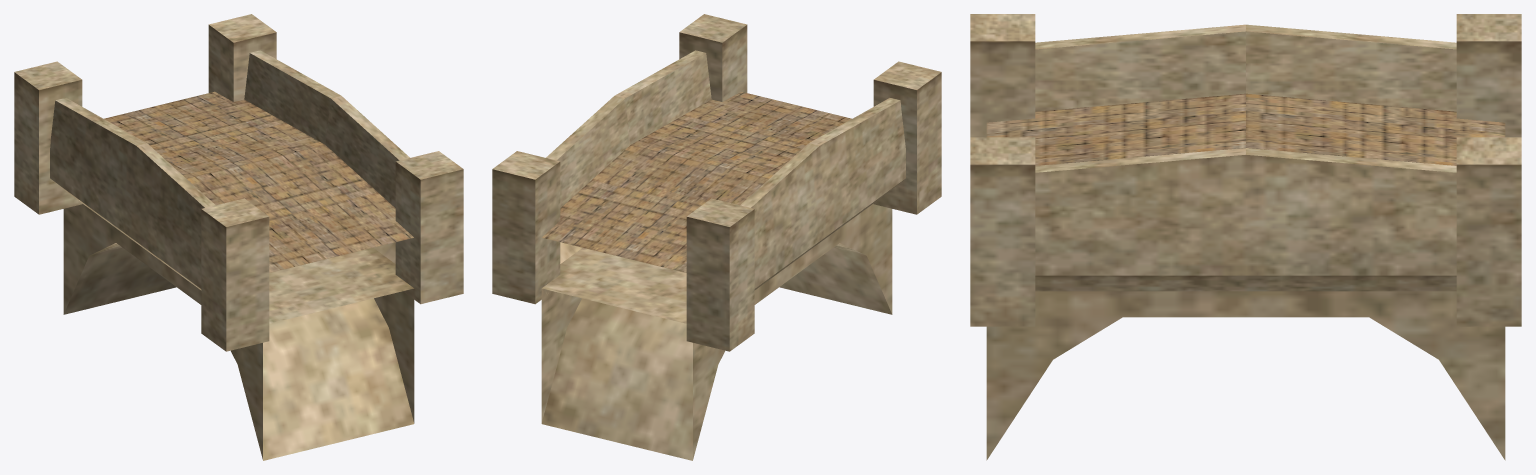
File: thm_tato_imprv_bridge_sml_s01_l2.fbx
3 views of the same model, side by side, from view 1: azimuth 30°, elevation 25°; view 2: azimuth 150°, elevation 25°; view 3: azimuth 270°, elevation 25° (orthographic). The views are drawn at different scales.
Parts seen in each view (by area): view 1: mesh_node; view 2: mesh_node; view 3: mesh_node.
Boxes of the visible parts, x1=… form: mesh_node: x1=14, y1=14, x2=463, y2=460; mesh_node: x1=492, y1=14, x2=941, y2=460; mesh_node: x1=970, y1=14, x2=1521, y2=460.
Bounding box in the file's own units: 5.5 × 5.51 × 8.5.
Materials: 1 (1 with a texture image).
